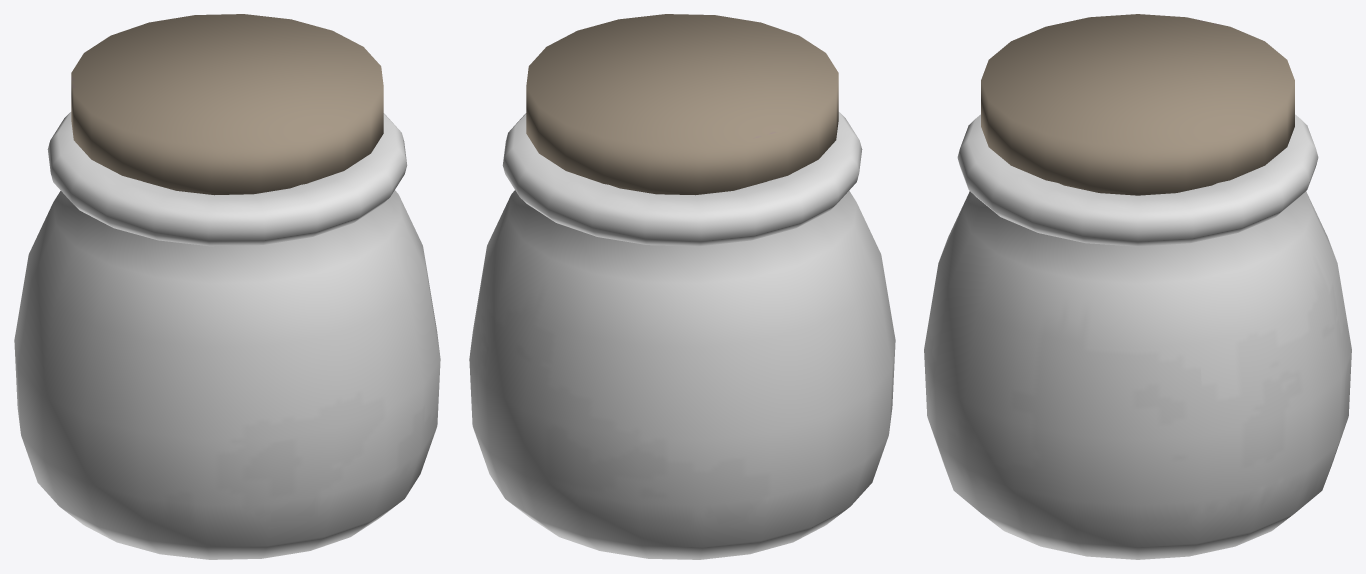
Rendered from pi_glasspot03_ketchup.gltf.
3 renders of one model, left to right at view 1: azimuth 30°, elevation 25°; view 2: azimuth 150°, elevation 25°; view 3: azimuth 270°, elevation 25°, orthographic.
Parts seen in each view (by area): view 1: glasspot03_outside01_mesh_shape__duprename_05bb43bx:pi_glass, pi_glasspot03_lid01_mesh_shape:pi_glasspot03_body; view 2: glasspot03_outside01_mesh_shape__duprename_05bb43bx:pi_glass, pi_glasspot03_lid01_mesh_shape:pi_glasspot03_body; view 3: glasspot03_outside01_mesh_shape__duprename_05bb43bx:pi_glass, pi_glasspot03_lid01_mesh_shape:pi_glasspot03_body.
Boxes of the visible parts, x1=… form: glasspot03_outside01_mesh_shape__duprename_05bb43bx:pi_glass: x1=14, y1=112, x2=440, y2=559; pi_glasspot03_lid01_mesh_shape:pi_glasspot03_body: x1=71, y1=14, x2=383, y2=195; glasspot03_outside01_mesh_shape__duprename_05bb43bx:pi_glass: x1=469, y1=112, x2=895, y2=559; pi_glasspot03_lid01_mesh_shape:pi_glasspot03_body: x1=526, y1=14, x2=838, y2=195; glasspot03_outside01_mesh_shape__duprename_05bb43bx:pi_glass: x1=924, y1=114, x2=1351, y2=559; pi_glasspot03_lid01_mesh_shape:pi_glasspot03_body: x1=981, y1=14, x2=1294, y2=195.
Size of the model in its own units: 0.0943 by 0.0997 by 0.0943.
Materials: 3 (3 with a texture image).
